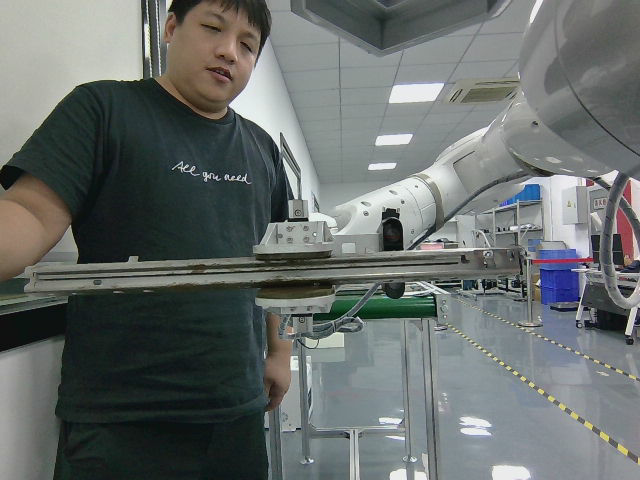up: (23, 244, 521, 296)
